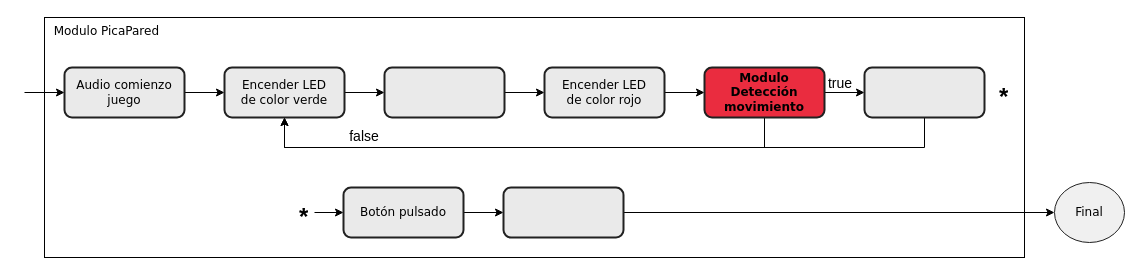
Some shapes in this 1142 by 275 pixel diagram are drawn without their labels. Here are the shapes that lost their labels. From the top down, the box of each, then its label:
(383, 66, 505, 118): Esperar por un tiempo aleatorio
(863, 66, 985, 118): Audio vuelve al inicio
(502, 186, 624, 238): Audio final juego
